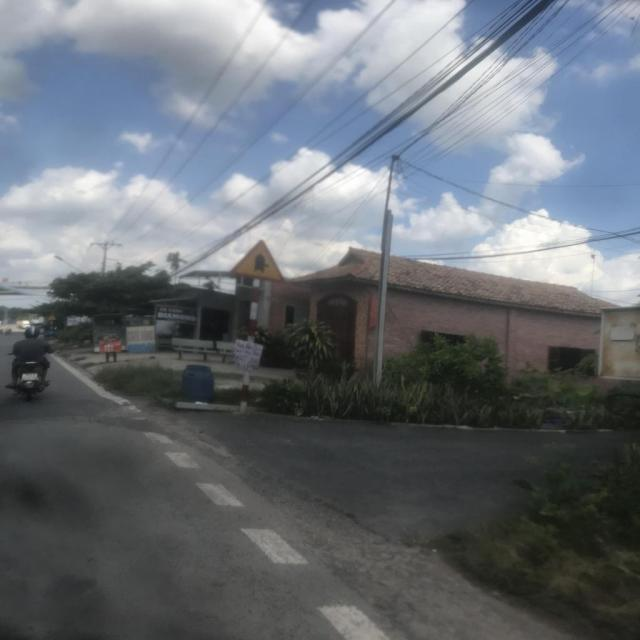207-giao-nhau-voi-duong-khong-uu-tien: (229, 240, 285, 284)
